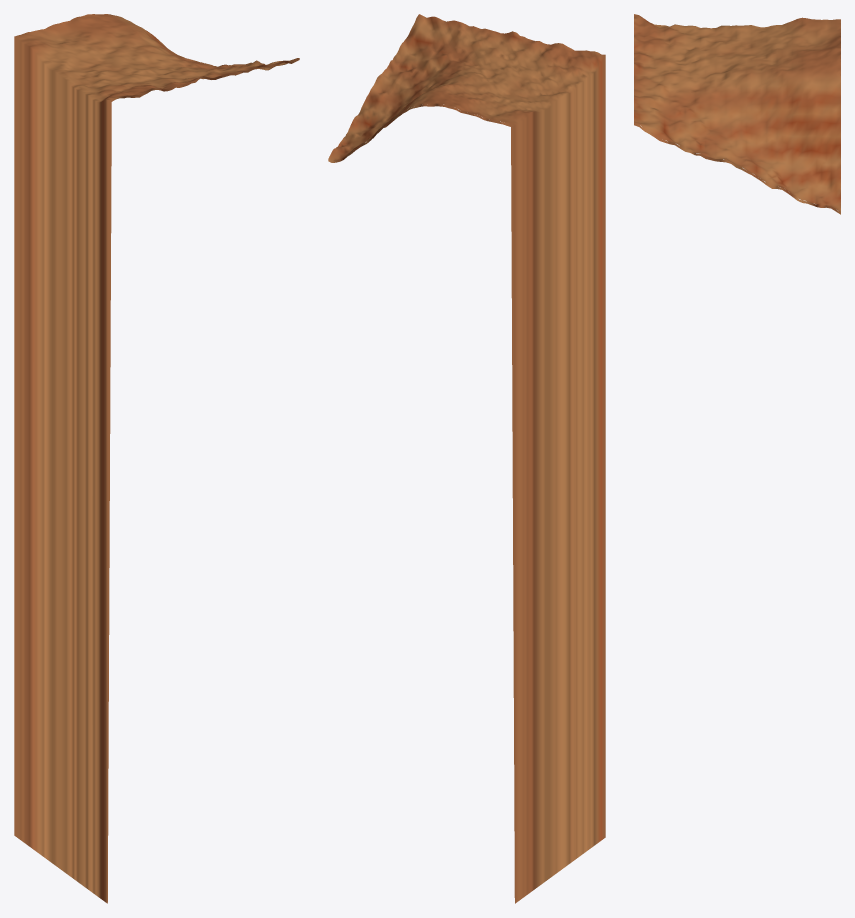
File: terrain-124.glb
The picture shows the model from 3 angles, left to right: view 1: azimuth 30°, elevation 25°; view 2: azimuth 150°, elevation 25°; view 3: azimuth 270°, elevation 25°; orthographic projection. The views are drawn at different scales.
Parts seen in each view (by area): view 1: terrain-124; view 2: terrain-124; view 3: terrain-124.
Part boxes in pixels (x1,y1,x2,y2): terrain-124: (14,14,299,903); terrain-124: (328,14,605,903); terrain-124: (634,14,840,214).
Size of the model in its own units: 384 by 1540 by 324.
